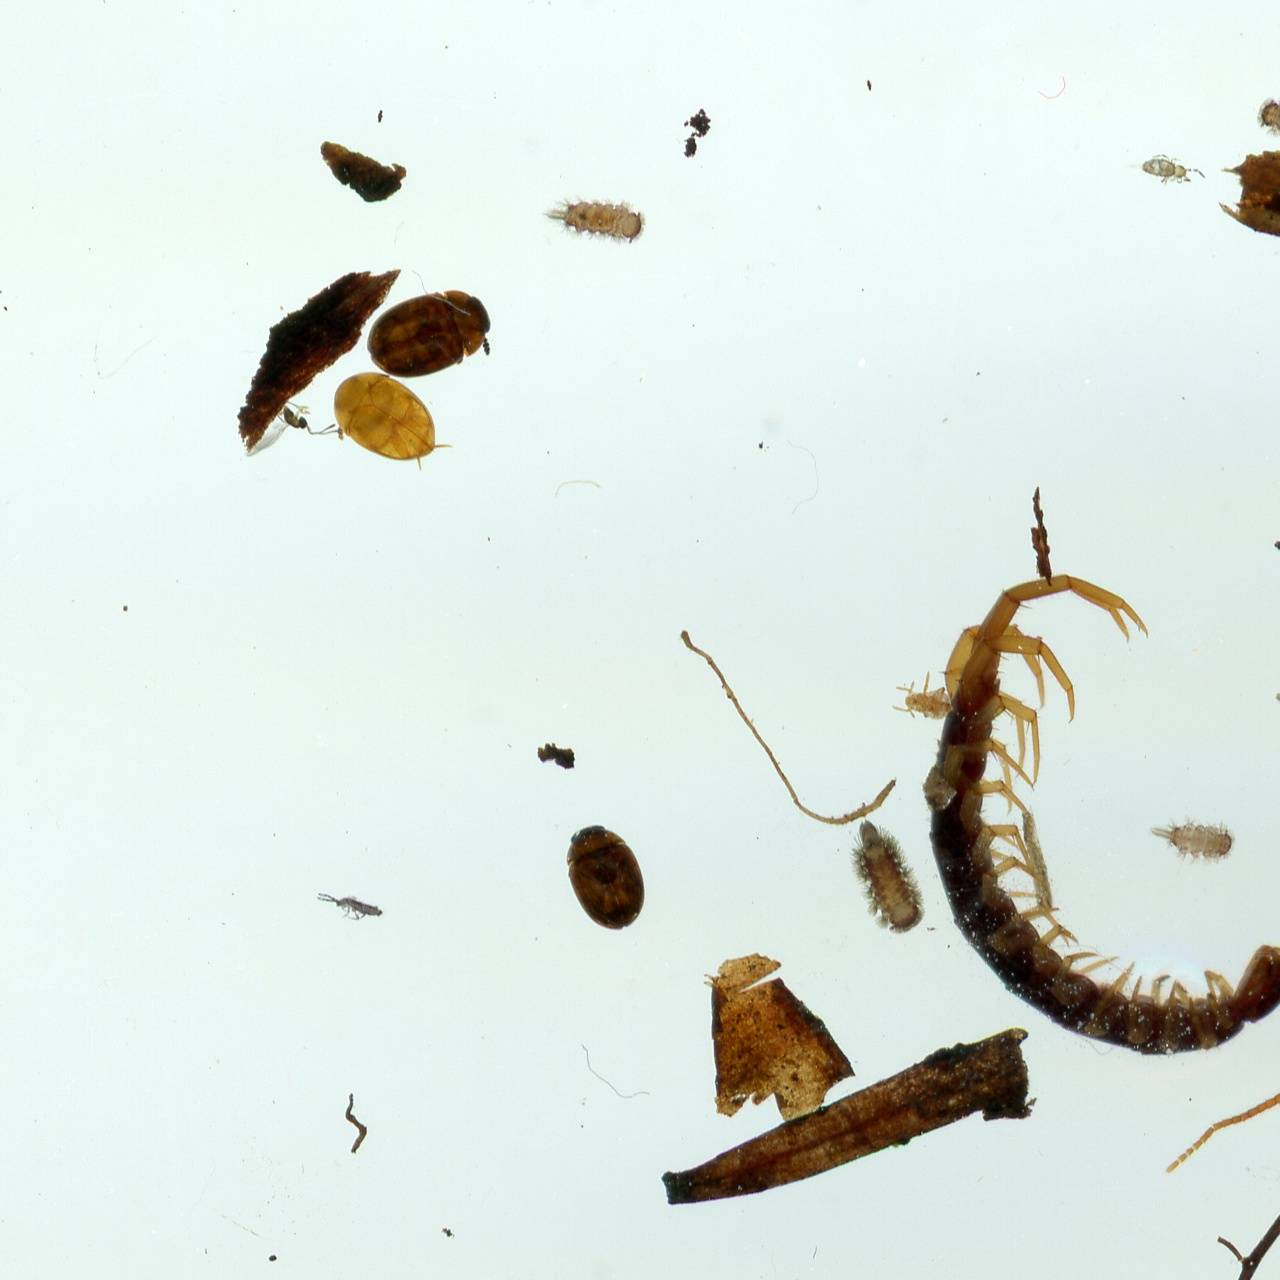arthropod: (942, 867, 1280, 1058), (331, 369, 448, 472), (365, 286, 497, 368), (563, 821, 648, 935), (840, 816, 922, 934), (539, 188, 645, 246), (1144, 816, 1242, 867), (256, 403, 328, 461), (1136, 150, 1210, 190), (1257, 90, 1280, 145), (1267, 682, 1280, 727)
